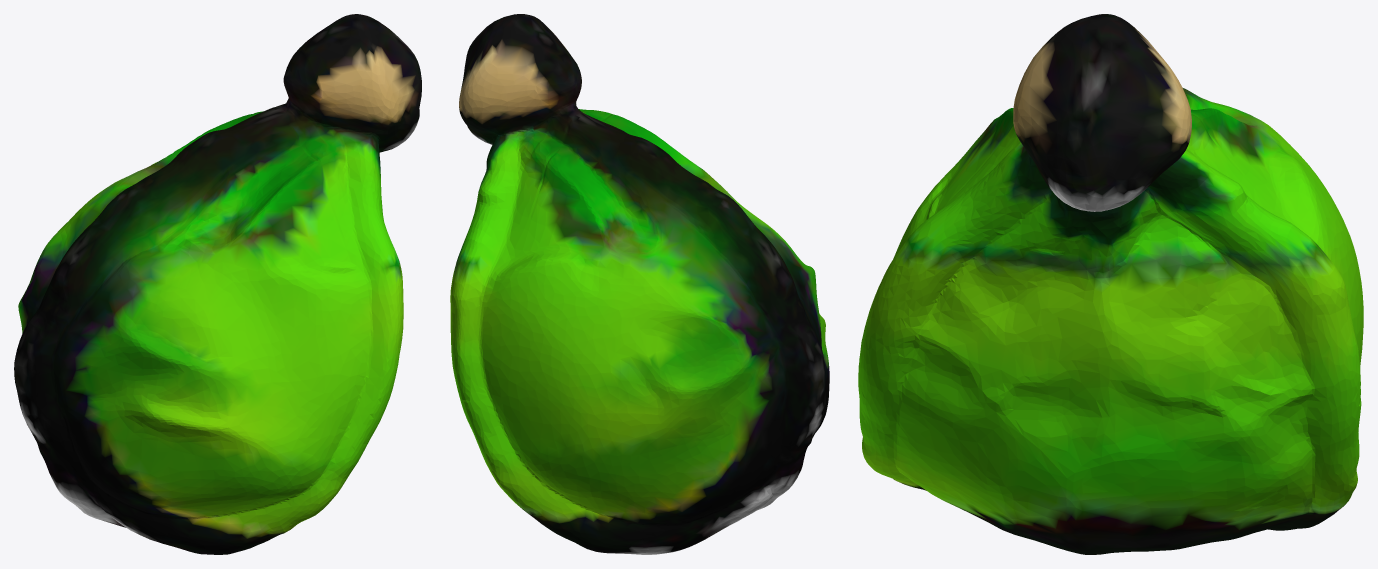
The model's file is potionhea.glb.
3 renders of one model, left to right at view 1: azimuth 30°, elevation 25°; view 2: azimuth 150°, elevation 25°; view 3: azimuth 270°, elevation 25°, orthographic. The views are drawn at different scales.
Visible parts, largest first — view 1: geometry_0; view 2: geometry_0; view 3: geometry_0.
Part boxes in pixels (x1,y1,x2,y2): geometry_0: (14,14,421,554); geometry_0: (450,14,829,554); geometry_0: (858,14,1363,554).
Bounding box in the file's own units: 0.375 × 0.4403 × 0.3259.
